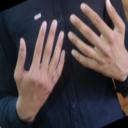hand: (13, 18, 66, 122), (67, 0, 127, 81)
